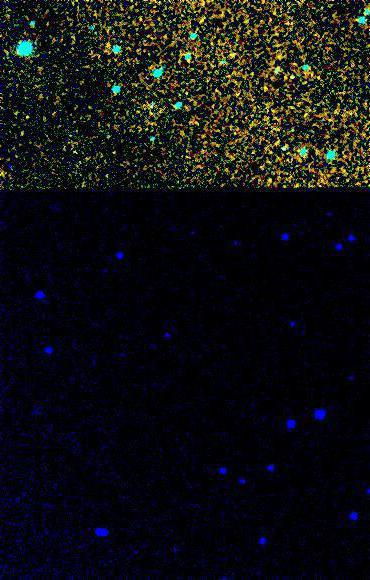star: (93, 27, 123, 57)
